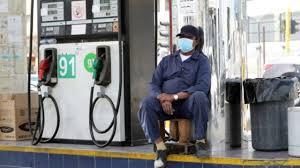mask: (175, 28, 200, 54)
